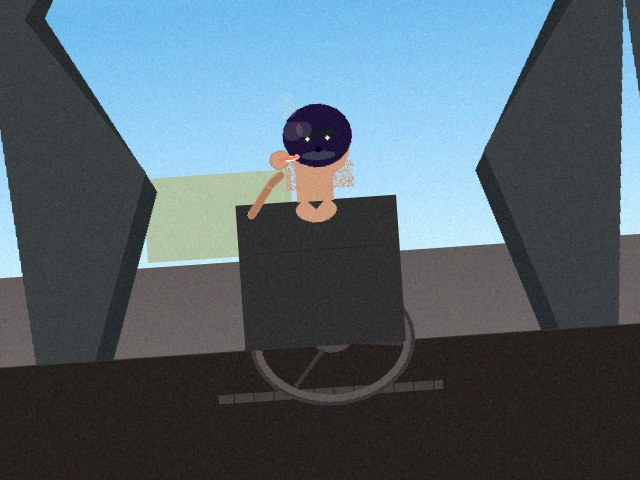smoking: (275, 142, 302, 172)
